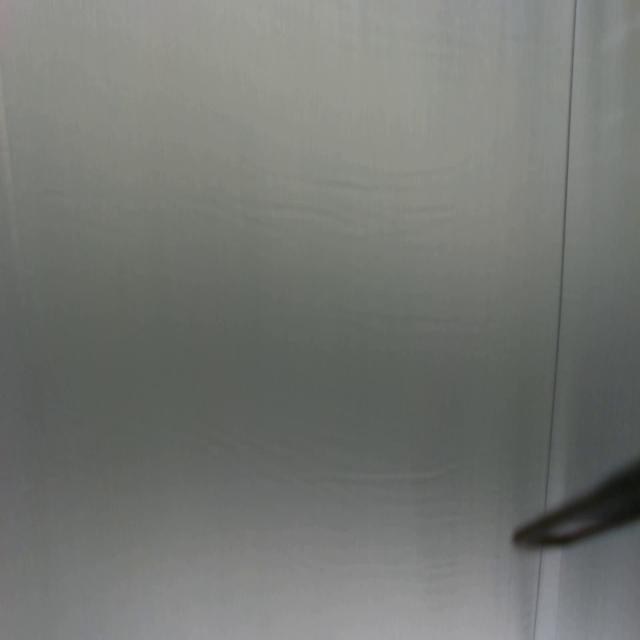crease: (543, 0, 578, 499), (531, 550, 545, 640)
